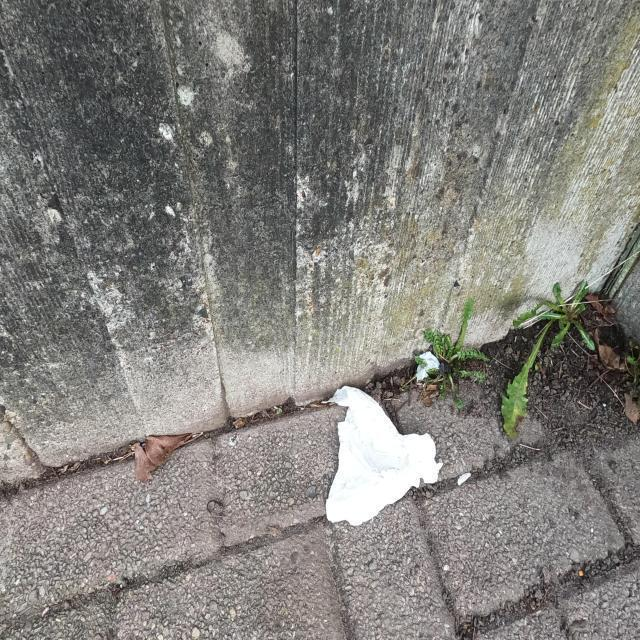Paper: (320, 384, 444, 528)
